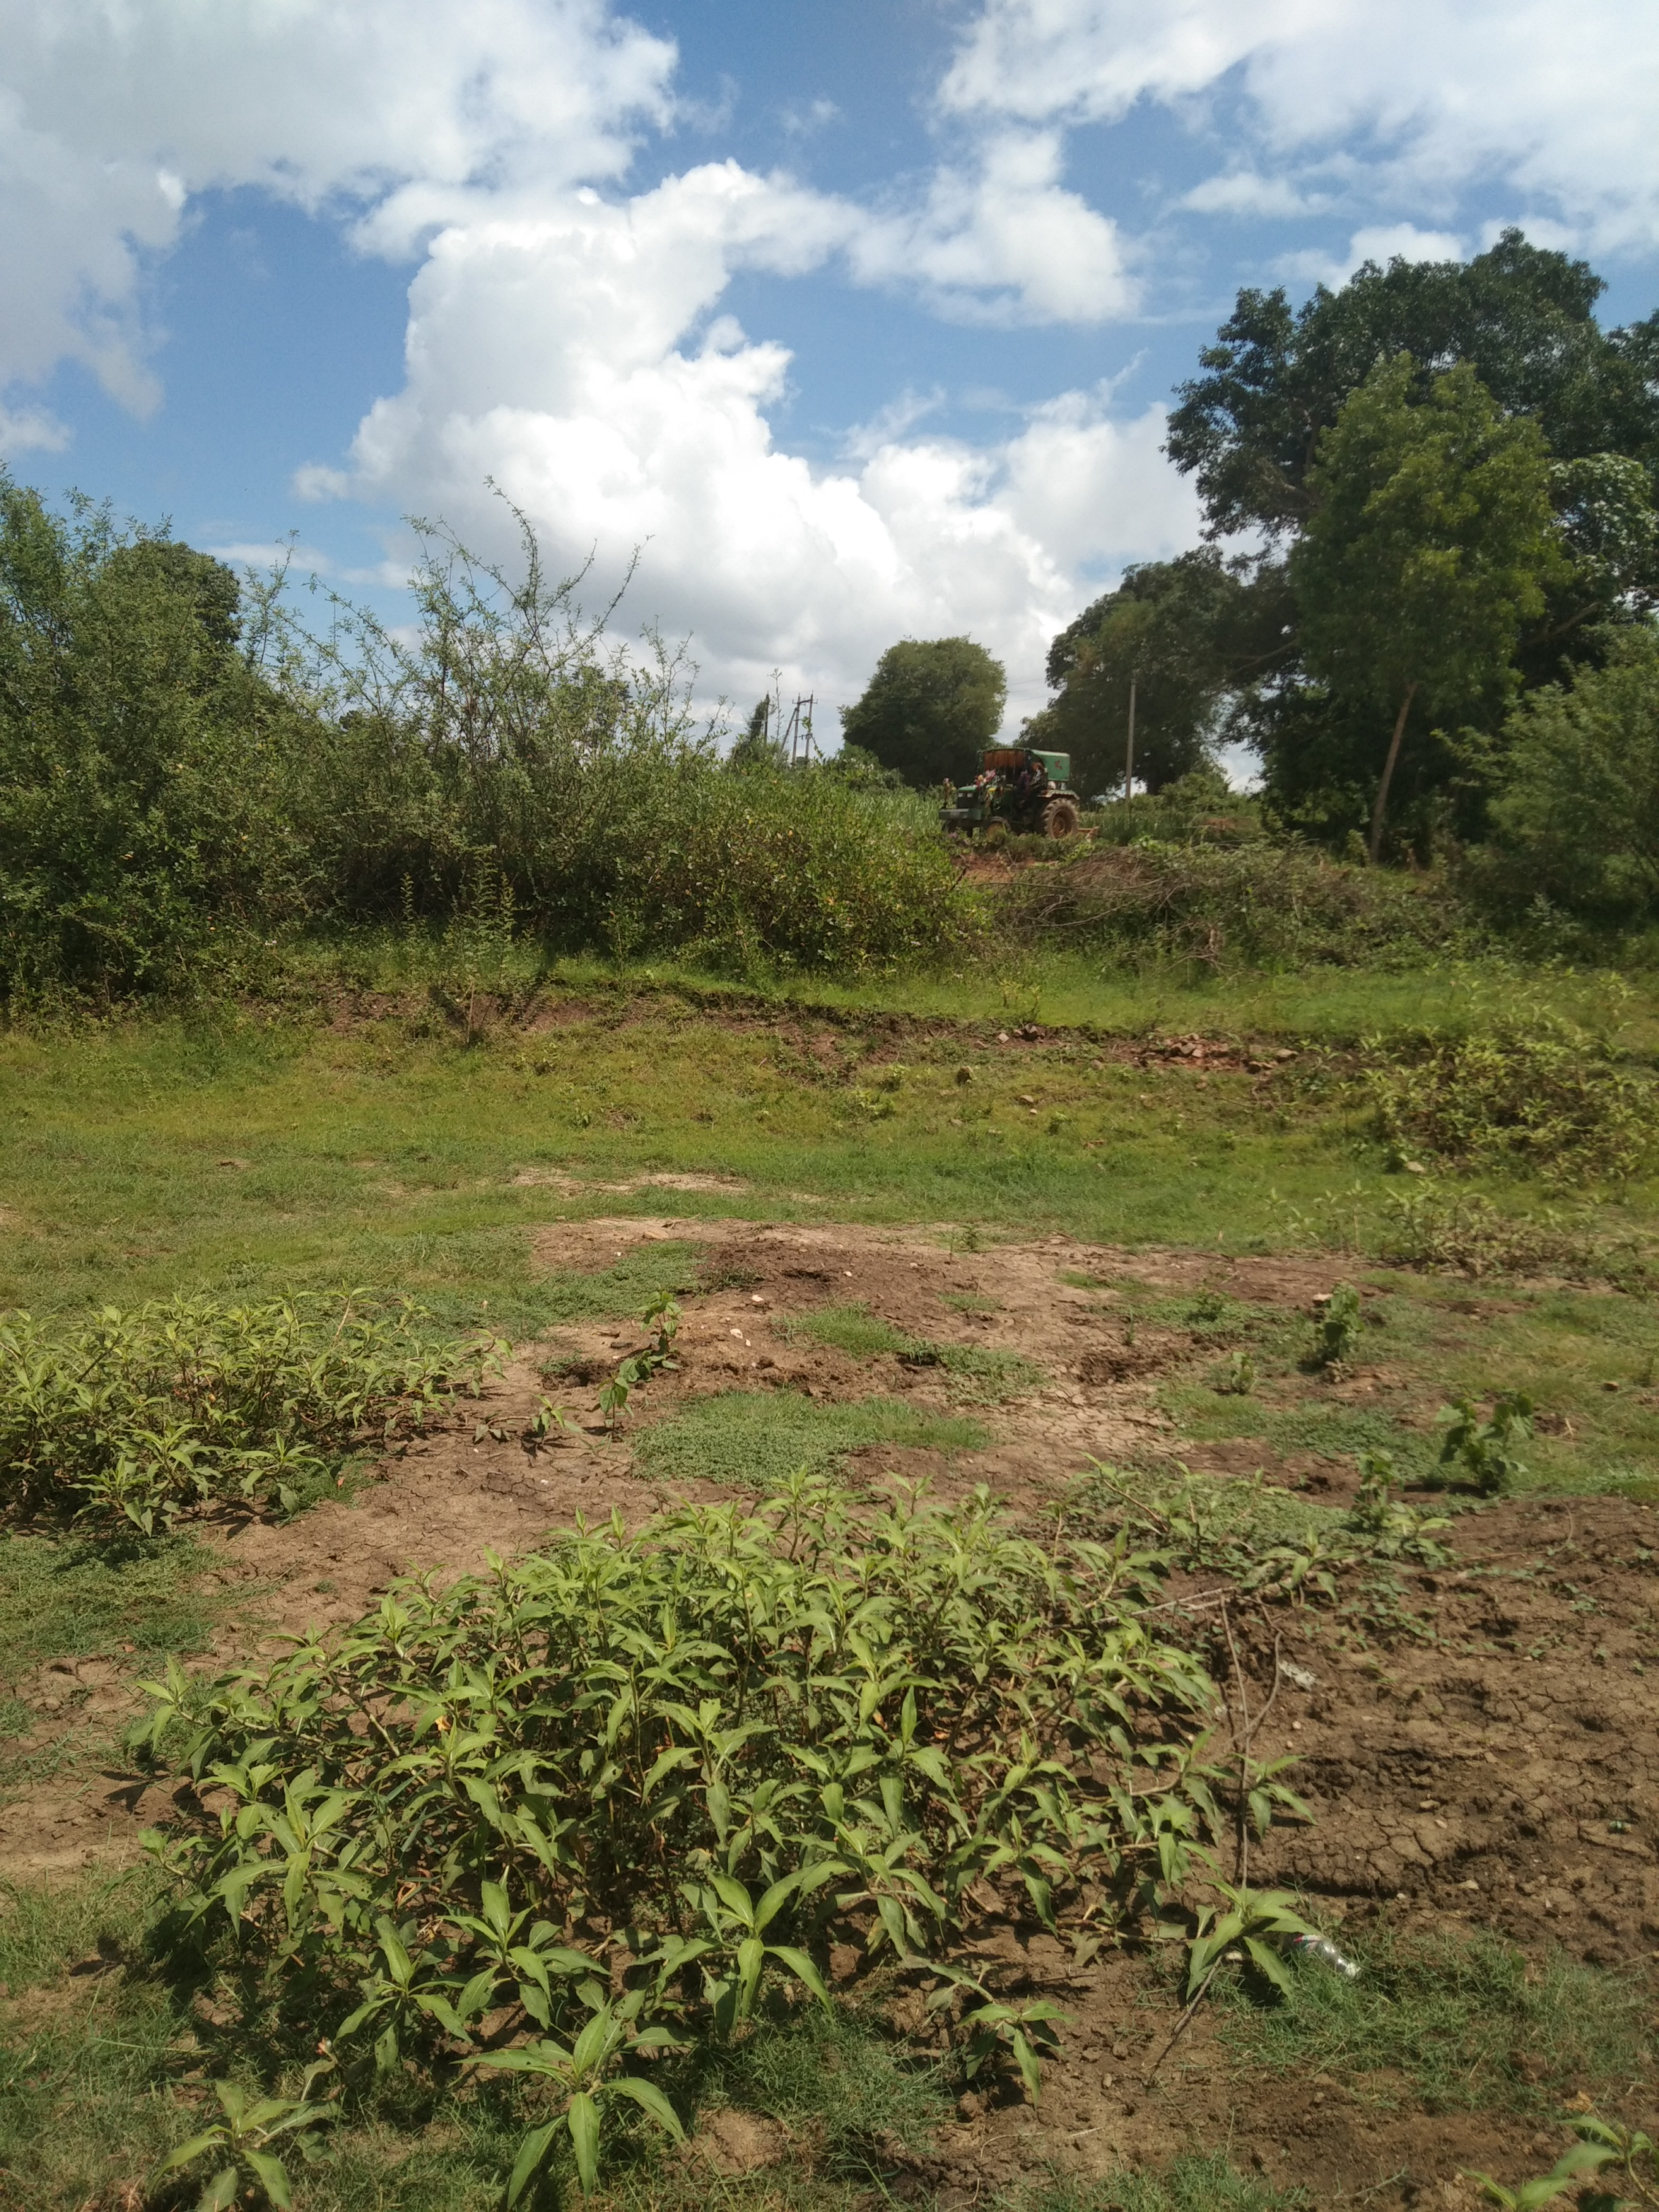truck: (936, 745, 1101, 857)
